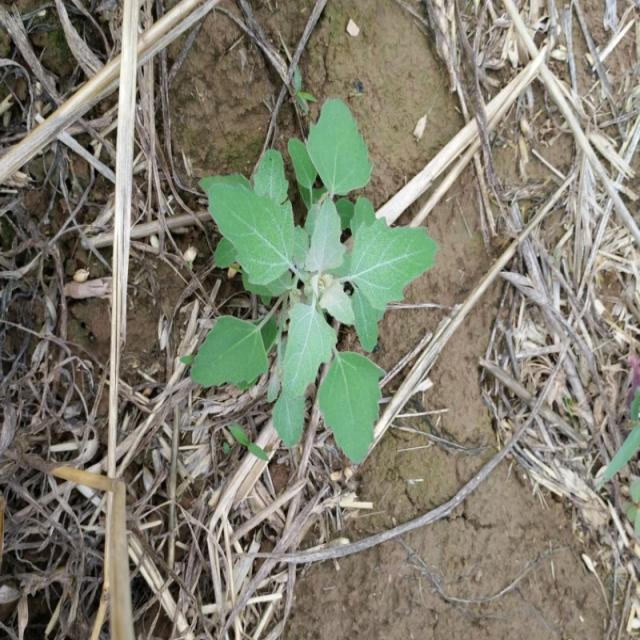goosefoots: (175, 123, 431, 450)
